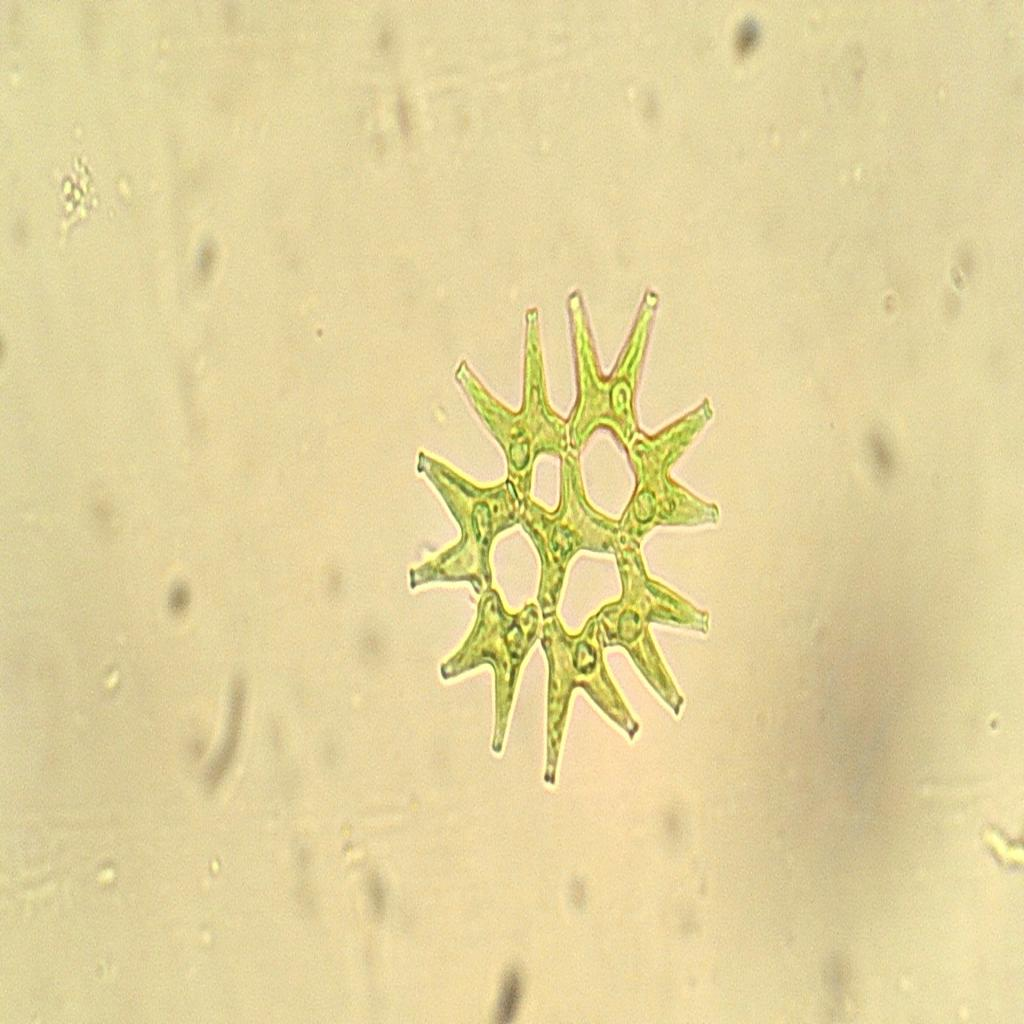Pediastrum_1T: (393, 268, 740, 804)
